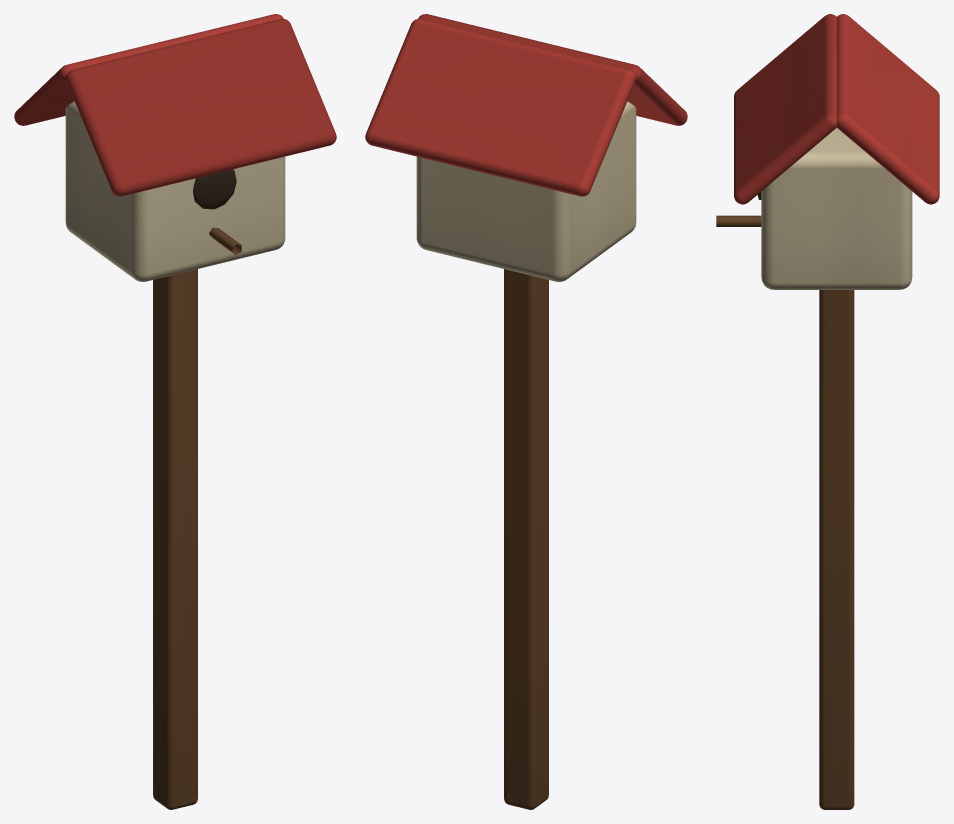
File: birdhouse.glb
3 views of the same model, side by side, from view 1: azimuth 30°, elevation 25°; view 2: azimuth 150°, elevation 25°; view 3: azimuth 270°, elevation 25° (orthographic). The views are drawn at different scales.
Visible parts, largest first — view 1: birdhouse_main; view 2: birdhouse_main; view 3: birdhouse_main.
Boxes of the visible parts, x1=… form: birdhouse_main: x1=14, y1=14, x2=336, y2=809; birdhouse_main: x1=365, y1=14, x2=687, y2=809; birdhouse_main: x1=716, y1=14, x2=939, y2=809.
Size of the model in its own units: 0.5 by 1.63 by 0.4448.
